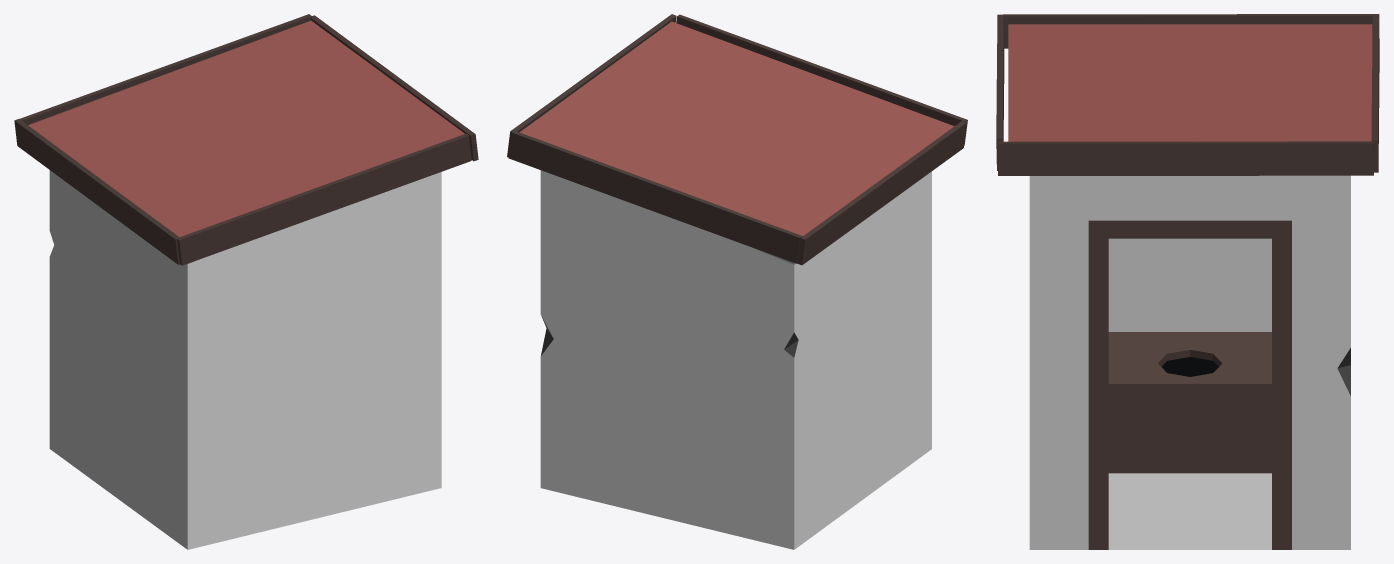
Rendered from SM_Outhouse.fbx.
The picture shows the model from 3 angles, left to right: view 1: azimuth 30°, elevation 25°; view 2: azimuth 150°, elevation 25°; view 3: azimuth 270°, elevation 25°; orthographic projection. The views are drawn at different scales.
Visible parts, largest first — view 1: SM_Outhouse; view 2: SM_Outhouse; view 3: SM_Outhouse.
Part boxes in pixels (x1,y1,x2,y2): SM_Outhouse: [14, 14, 478, 549]; SM_Outhouse: [507, 14, 967, 549]; SM_Outhouse: [996, 14, 1379, 549].
Bounding box in the file's own units: 251 × 286 × 237.
Materials: 1 (1 with a texture image).
